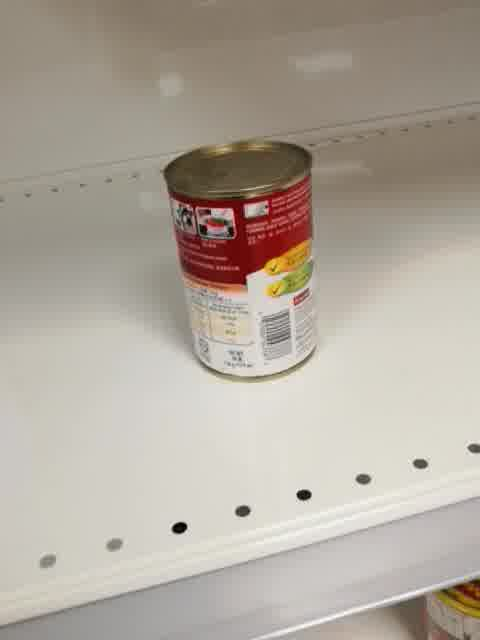tomatosoup: (162, 139, 322, 385)
